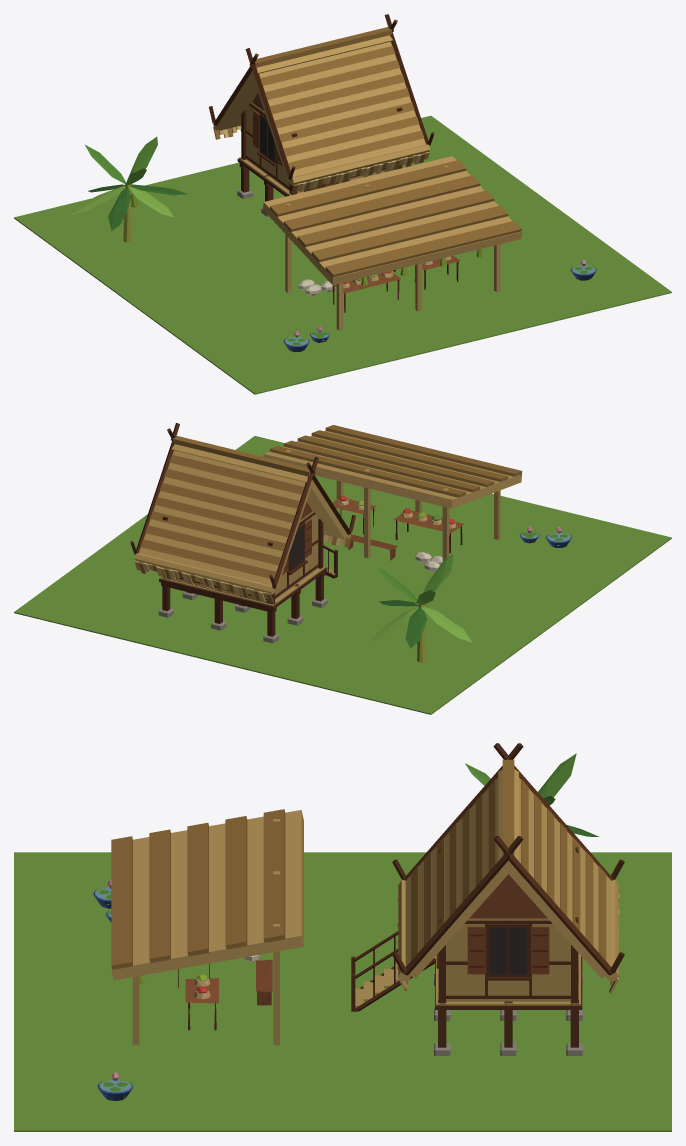
The model's file is shop_1.glb.
The picture shows the model from 3 angles, top to bottom: view 1: azimuth 30°, elevation 25°; view 2: azimuth 150°, elevation 25°; view 3: azimuth 270°, elevation 25°; orthographic projection. The views are drawn at different scales.
Parts seen in each view (by area): view 1: body; view 2: body, windows; view 3: body, windows.
Part boxes in pixels (x1=…): body: x1=14, y1=14, x2=671, y2=394; body: x1=14, y1=423, x2=671, y2=714; windows: x1=290, y1=525, x2=304, y2=569; body: x1=14, y1=743, x2=671, y2=1131; windows: x1=490, y1=927, x2=526, y2=974.
Size of the model in its own units: 15.9 by 6.17 by 15.9.
